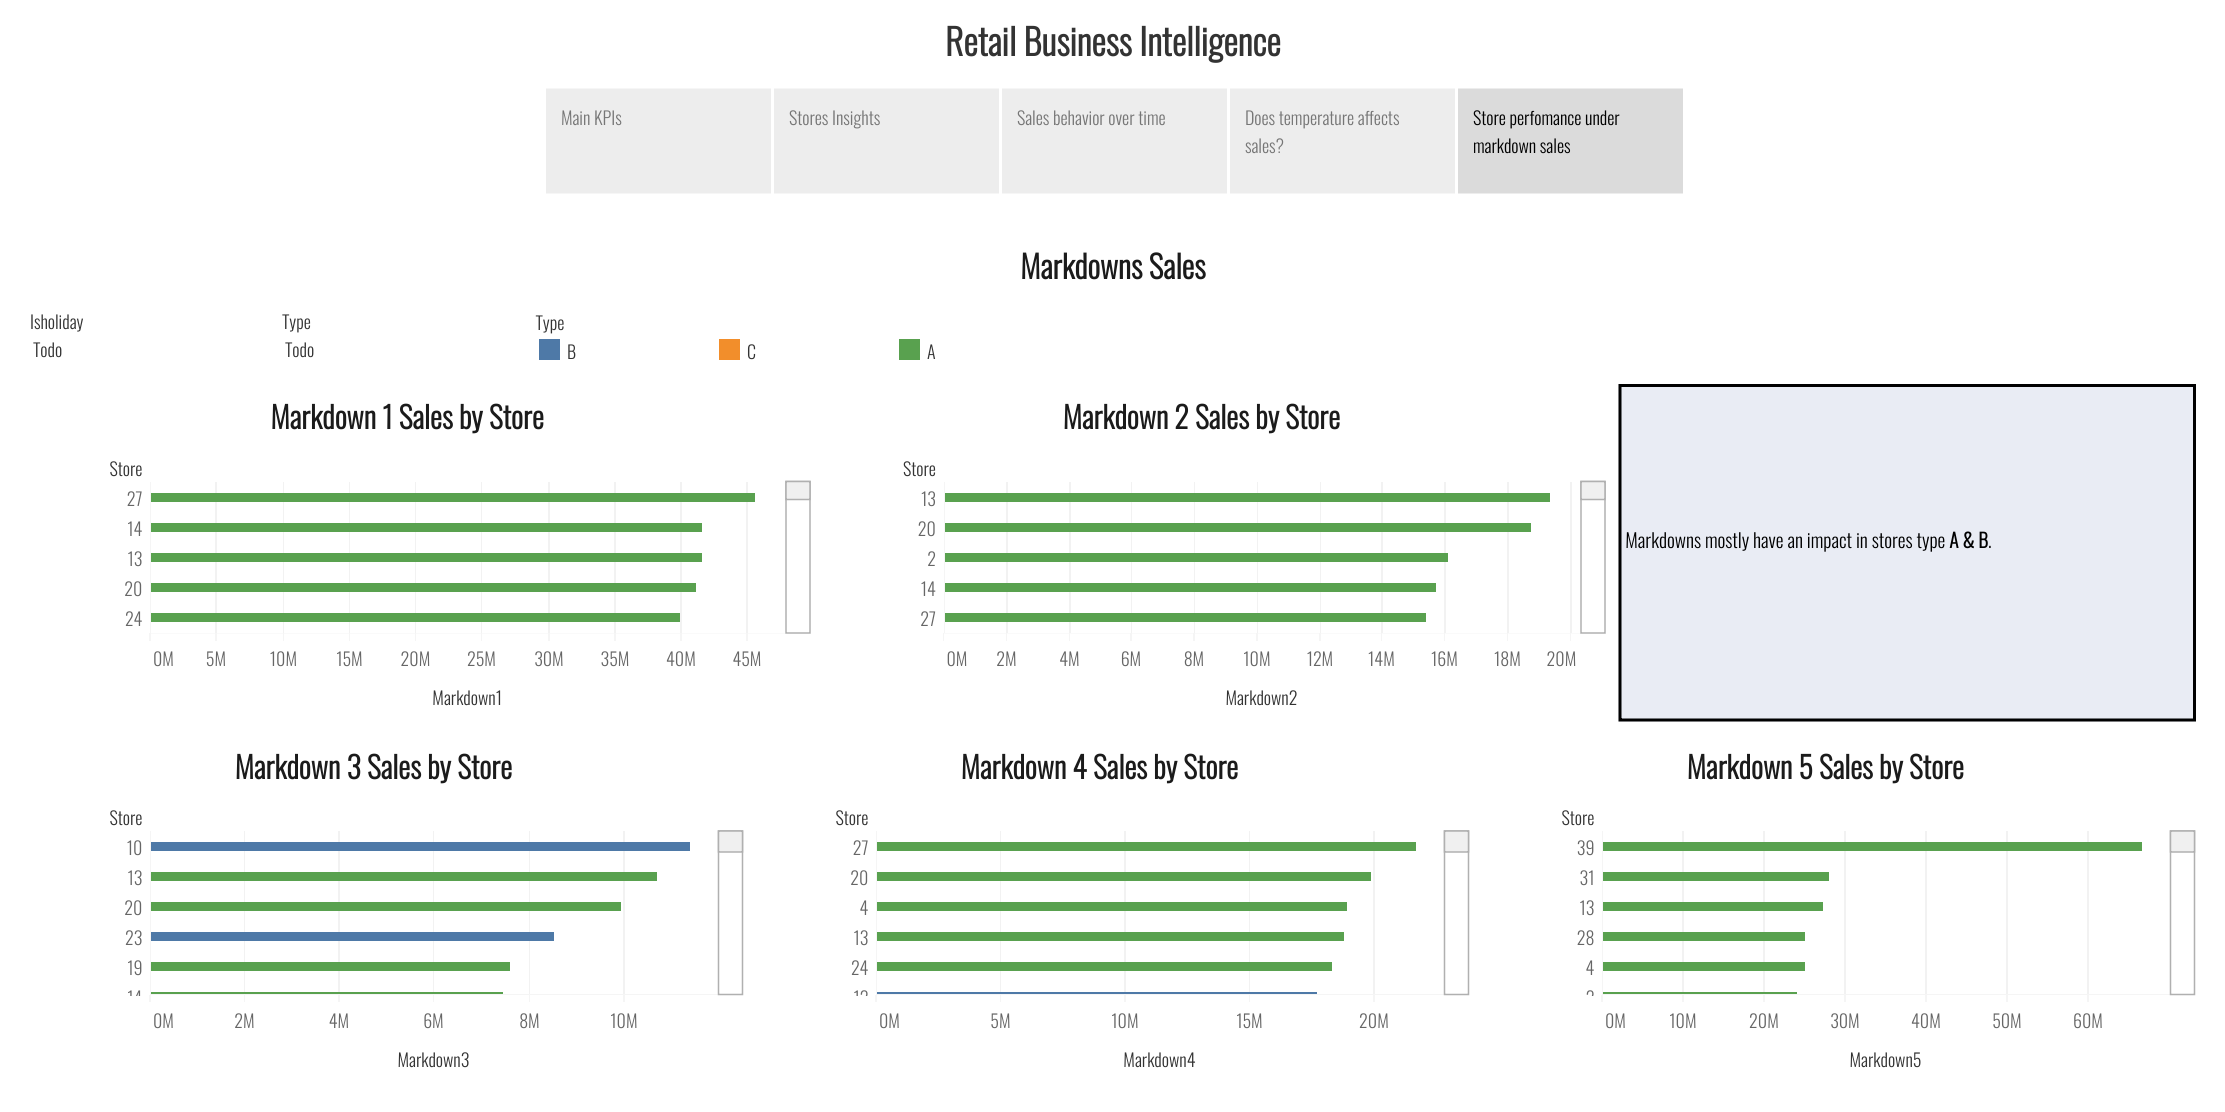

This screenshot's page, from the dashboard's own definition file:
{"tool":"tableau","page":{"name":"Dashboard 5","canvas":[1000,1000],"units":"permille","ordinal":4},"visuals":[{"type":"text","box":[5.4,10.8,989.2,78.6]},{"type":"filter","title":"Markdown1","param":"[federated.09c82i20zi96wa15g1bcy1swq6py].[none:isholiday:nk]","box":[5.4,89.4,113.2,90.5]},{"type":"filter","title":"Markdown1","param":"[federated.09c82i20zi96wa15g1bcy1swq6py].[none:type:nk]","box":[118.6,89.4,113.2,90.5]},{"type":"legend","title":"Markdown1","param":"[federated.09c82i20zi96wa15g1bcy1swq6py].[none:type:nk]","box":[231.8,89.4,258.1,90.5]},{"type":"worksheet","title":"Markdown1","mark":"Bar","rows":["store"],"cols":["markdown1"],"box":[5.4,179.9,360.3,397.5]},{"type":"worksheet","title":"Markdown2","mark":"Bar","rows":["store"],"cols":["markdown2"],"box":[365.7,179.9,360.3,397.5]},{"type":"text","box":[726,179.9,268.6,397.5]},{"type":"worksheet","title":"Markdown3","mark":"Bar","rows":["store"],"cols":["markdown3"],"box":[5.4,577.4,329.7,411.8]},{"type":"worksheet","title":"Markdown4","mark":"Bar","rows":["store"],"cols":["markdown4"],"box":[335.1,577.4,329.7,411.8]},{"type":"worksheet","title":"Markdown5","mark":"Bar","rows":["store"],"cols":["markdown5"],"box":[664.9,577.4,329.7,411.8]}]}

Visuals, with their boxes on the dashboard's canvas, which has no fixed pixel size, in thousandths of its width and height (x1, y1, x2, y2). These are canvas units, not pixel positions in the 2225x1112 screenshot, which may show the page scaled, cropped or inside an application window:
text: bbox=(5, 11, 995, 89)
"Markdown1" filter: bbox=(5, 89, 119, 180)
"Markdown1" filter: bbox=(119, 89, 232, 180)
"Markdown1" legend: bbox=(232, 89, 490, 180)
"Markdown1" worksheet (Bar marks): bbox=(5, 180, 366, 577)
"Markdown2" worksheet (Bar marks): bbox=(366, 180, 726, 577)
text: bbox=(726, 180, 995, 577)
"Markdown3" worksheet (Bar marks): bbox=(5, 577, 335, 989)
"Markdown4" worksheet (Bar marks): bbox=(335, 577, 665, 989)
"Markdown5" worksheet (Bar marks): bbox=(665, 577, 995, 989)
